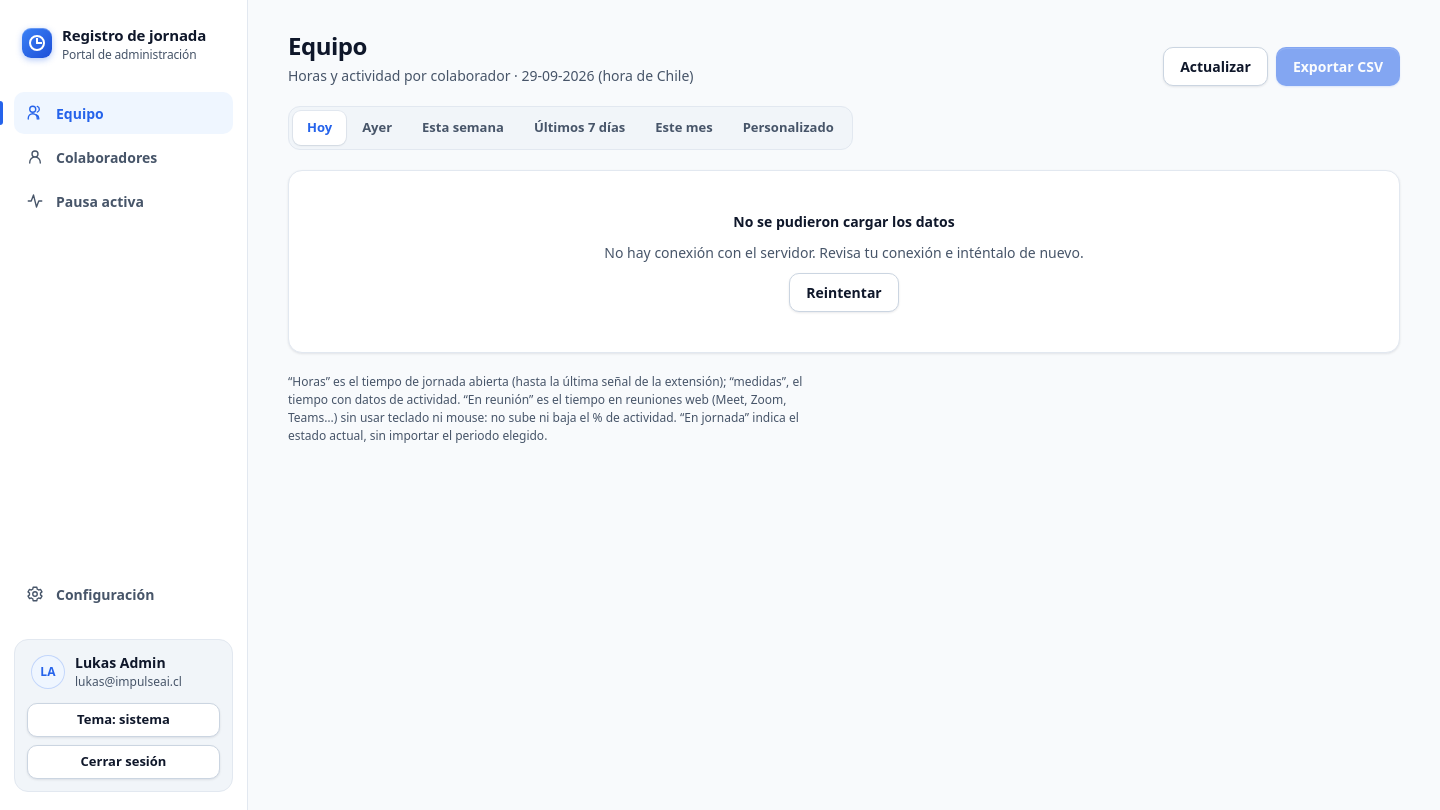
it: Equipo › error state with retry
The width and height of the screenshot is (1440, 810).
Expected: the text "No se pudieron cargar los datos" is shown, [733,211,955,232]
Click the button "Reintentar" at (844,292), box [789,273,899,312]
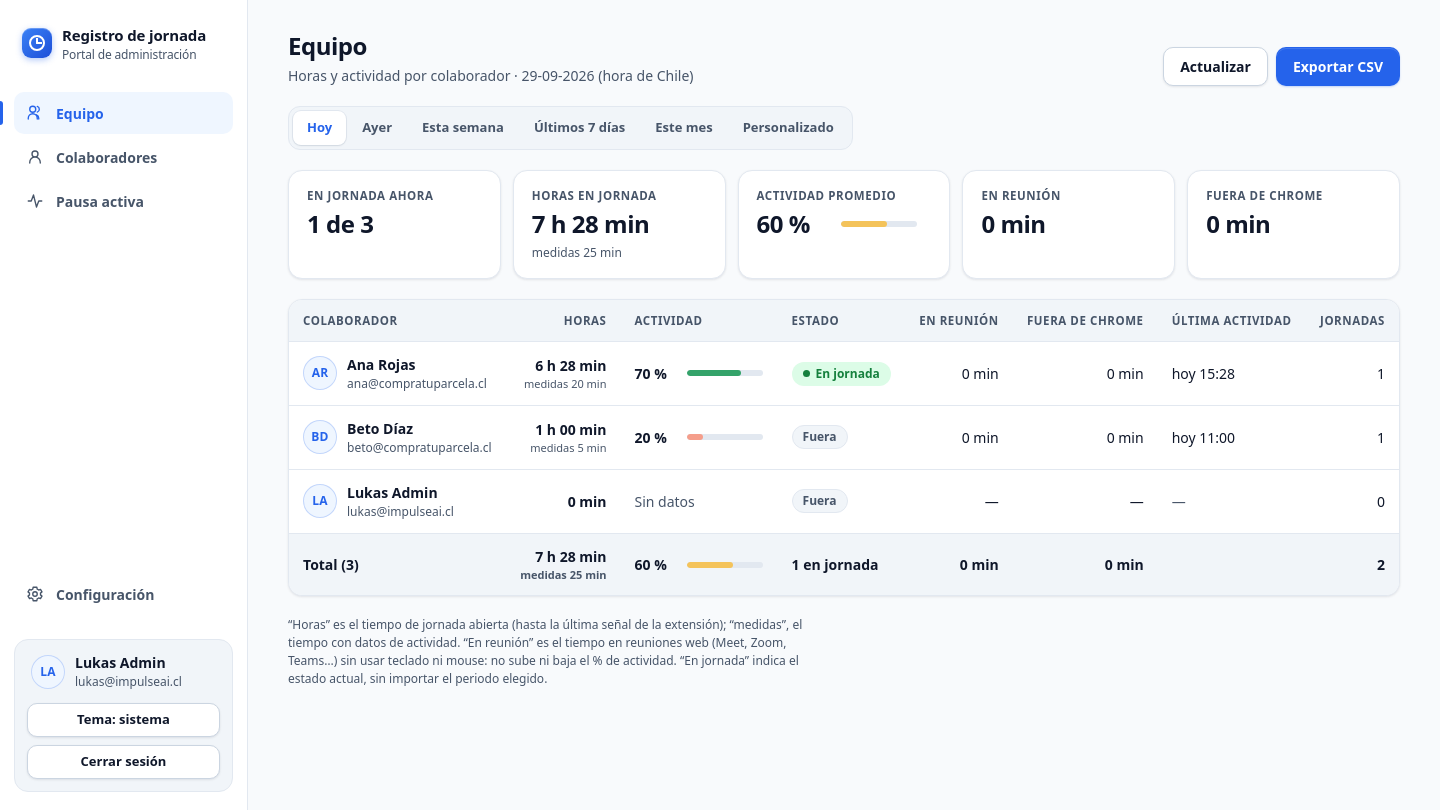
Result: the table is shown at [289,300,1399,595]
